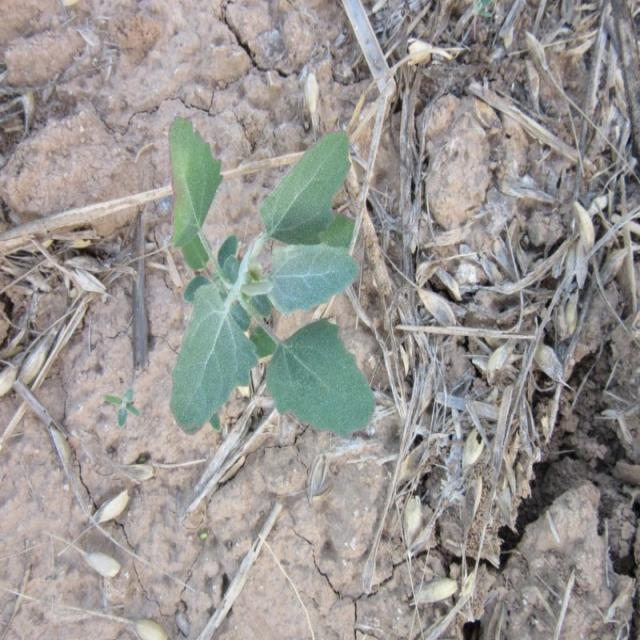ca: (169, 118, 378, 437)
